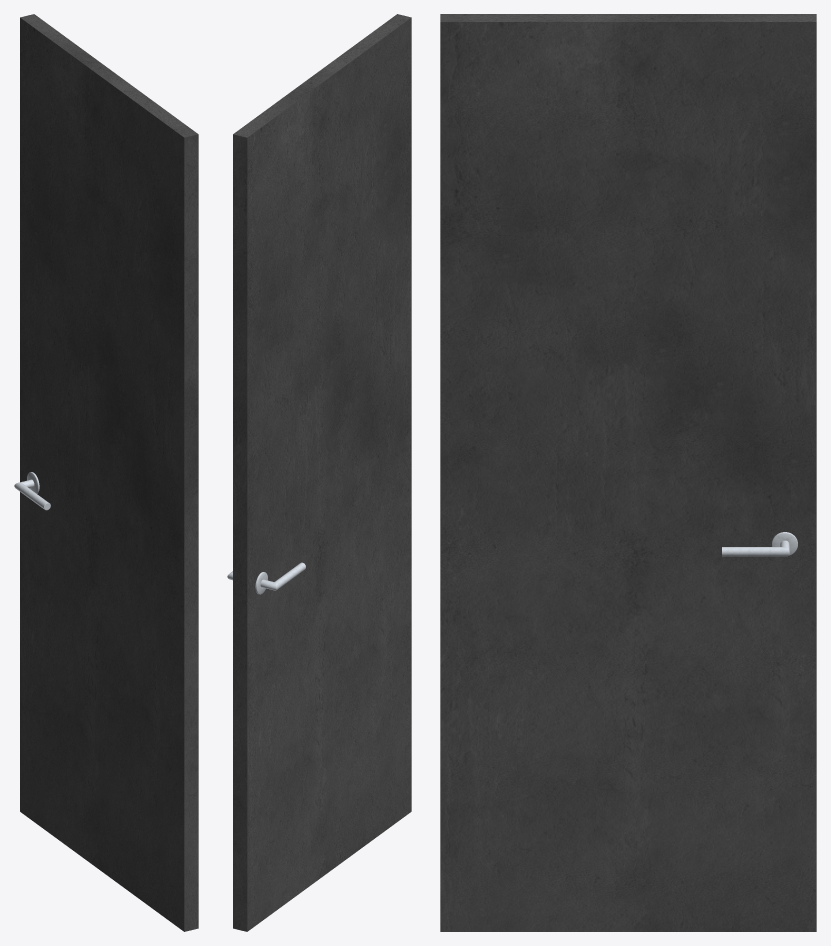
The model's file is 20251014_Building03_top unit_door3.fbx.
3 views of the same model, side by side, from view 1: azimuth 30°, elevation 25°; view 2: azimuth 150°, elevation 25°; view 3: azimuth 270°, elevation 25° (orthographic). The views are drawn at different scales.
Visible parts, largest first — view 1: int door, DoorHandle3_2; view 2: int door, DoorHandle3_2; view 3: int door, DoorHandle3.
Part boxes in pixels (left/top/right/bottom): int door: left=20, top=14, right=198, bottom=931; DoorHandle3_2: left=14, top=472, right=50, bottom=510; int door: left=233, top=14, right=411, bottom=931; DoorHandle3_2: left=255, top=562, right=305, bottom=594; int door: left=440, top=14, right=816, bottom=931; DoorHandle3: left=722, top=532, right=797, bottom=556.
Bounding box in the file's own units: 5.2 × 30 × 80.
